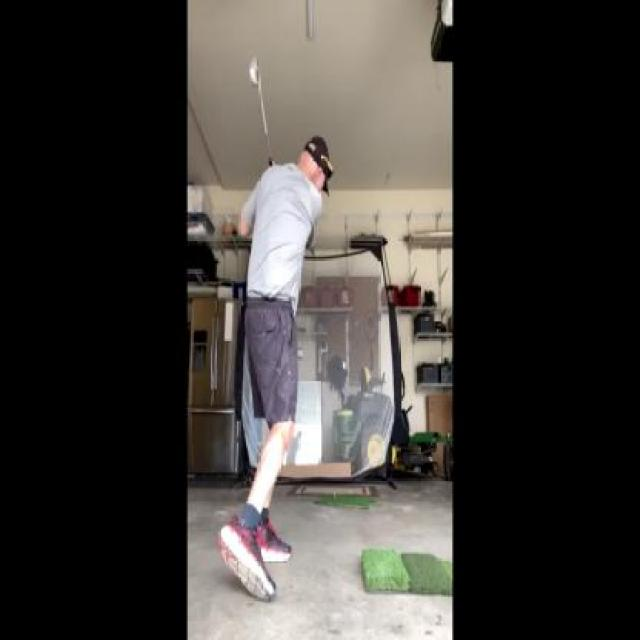club head: (246, 54, 262, 94)
